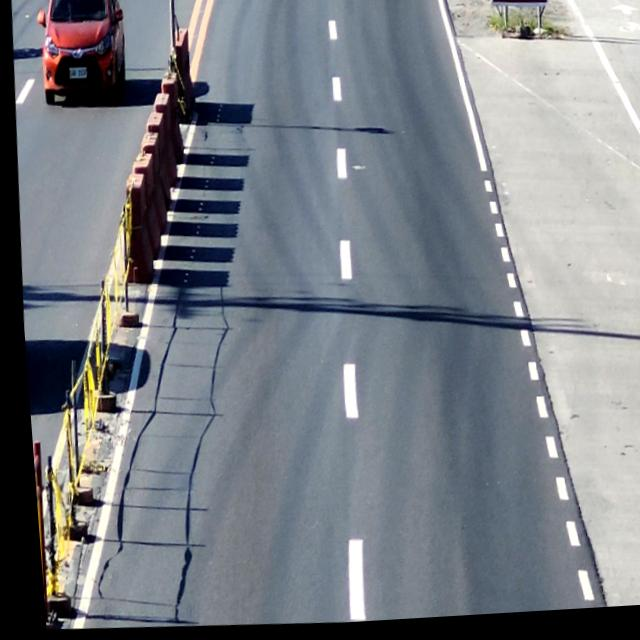License-Plate: (66, 65, 88, 82)
